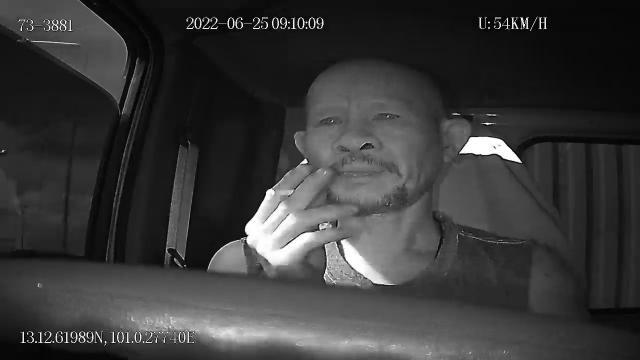SafeDriving: (367, 101, 409, 129), (309, 106, 350, 134)
Smoking: (264, 186, 294, 198)
